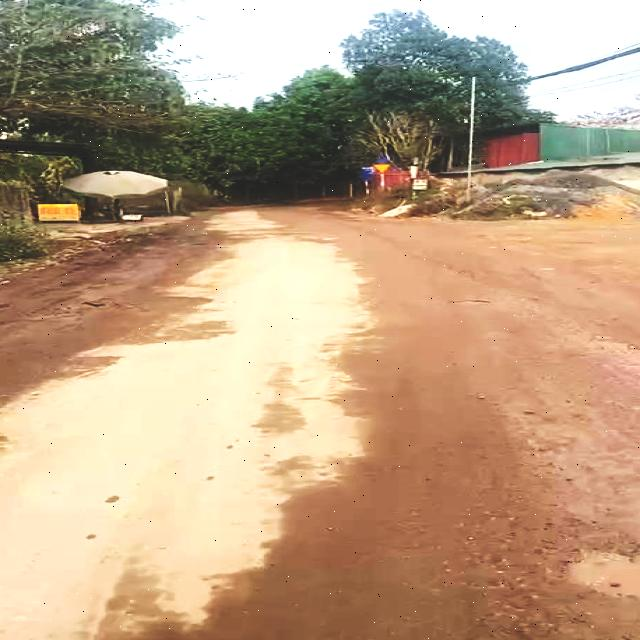pothole: (531, 538, 640, 604)
